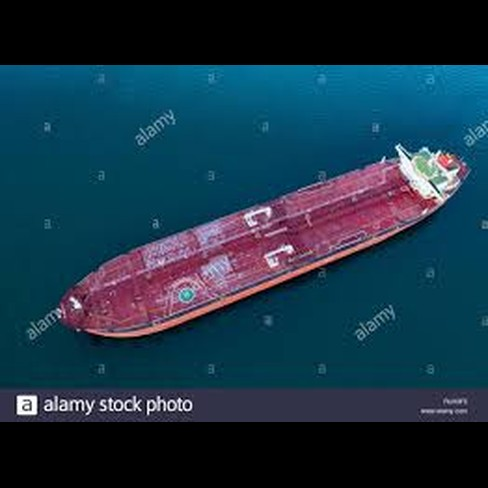boat: (42, 133, 478, 358)
